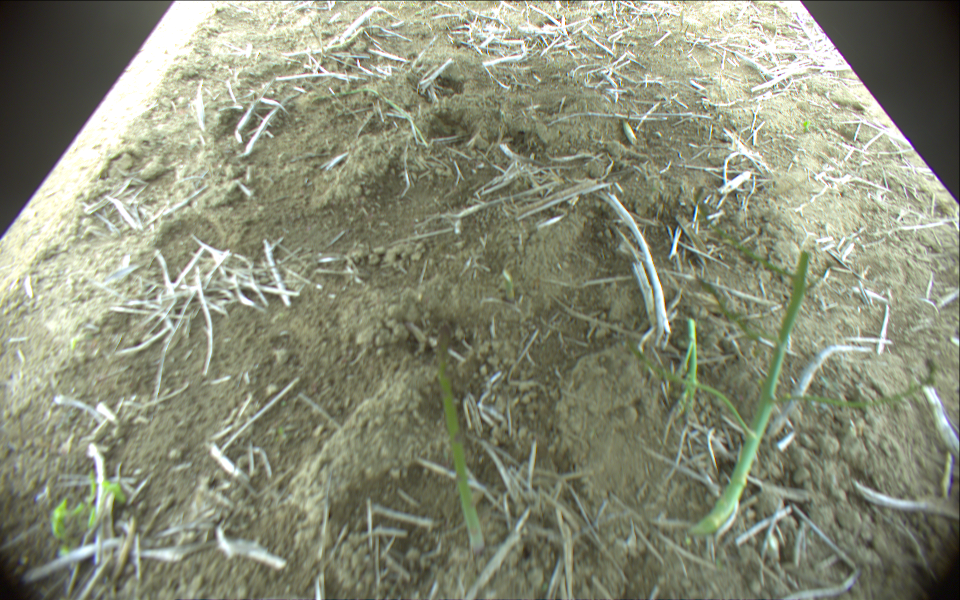aspa: (434, 350, 487, 553), (683, 316, 699, 426), (500, 268, 514, 301)
